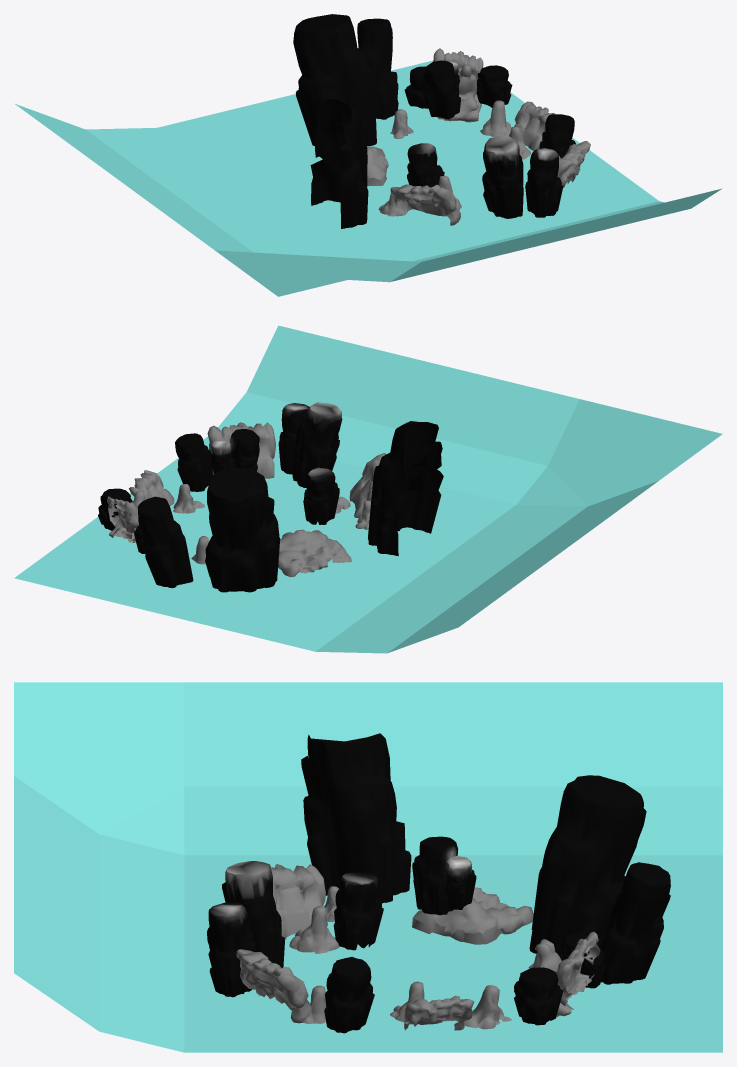
The model's file is MSH_lev_nature_1_bg.FBX.
The picture shows the model from 3 angles, top to bottom: view 1: azimuth 30°, elevation 25°; view 2: azimuth 150°, elevation 25°; view 3: azimuth 270°, elevation 25°; orthographic projection. The views are drawn at different scales.
Parts seen in each view (by area): view 1: nat_1_bg, Object604, Group62279, Group002as002, nat_1_statuePraying; view 2: nat_1_bg, Object604, Group62279, Group002as002; view 3: nat_1_bg, Object604, Group62279, Group002as002.
Boxes of the visible parts, box(x1,y1,x2,y2) form: nat_1_bg: box(14, 60, 722, 296); Object604: box(293, 14, 576, 228); Group62279: box(367, 48, 590, 225); Group002as002: box(378, 100, 560, 216); nat_1_statuePraying: box(458, 64, 477, 113); nat_1_bg: box(14, 325, 722, 653); Object604: box(98, 402, 443, 592); Group62279: box(107, 422, 386, 577); Group002as002: box(145, 468, 370, 564); nat_1_bg: box(14, 682, 722, 1052); Object604: box(207, 733, 670, 1033); Group62279: box(236, 864, 600, 1030); Group002as002: box(289, 886, 555, 1029).
Bounding box in the file's own units: 189 × 194 × 55.84.
